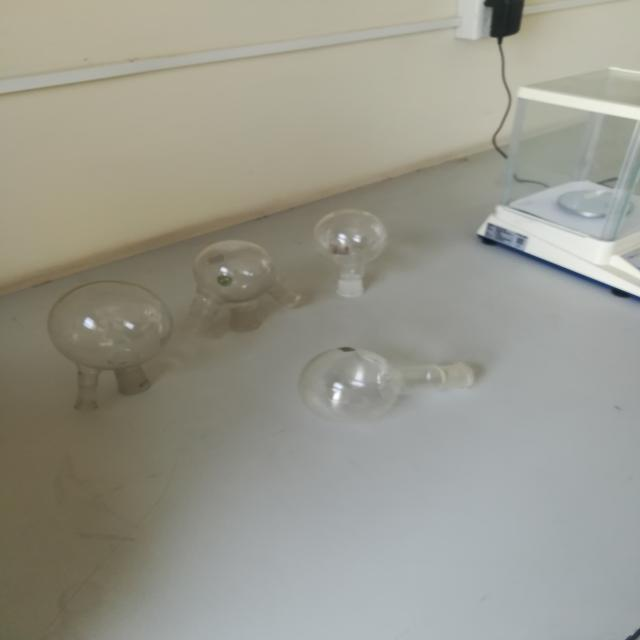Round_Bottom_Flask_Borosilicate_Glass_1_Neck: (291, 324, 494, 432), (304, 191, 412, 314)
Round_Bottom_Flask_Borosilicate_Glass_2_Neck: (33, 260, 196, 429)
Round_Bottom_Flask_Borosilicate_Glass_3_Neck: (153, 230, 323, 348)
